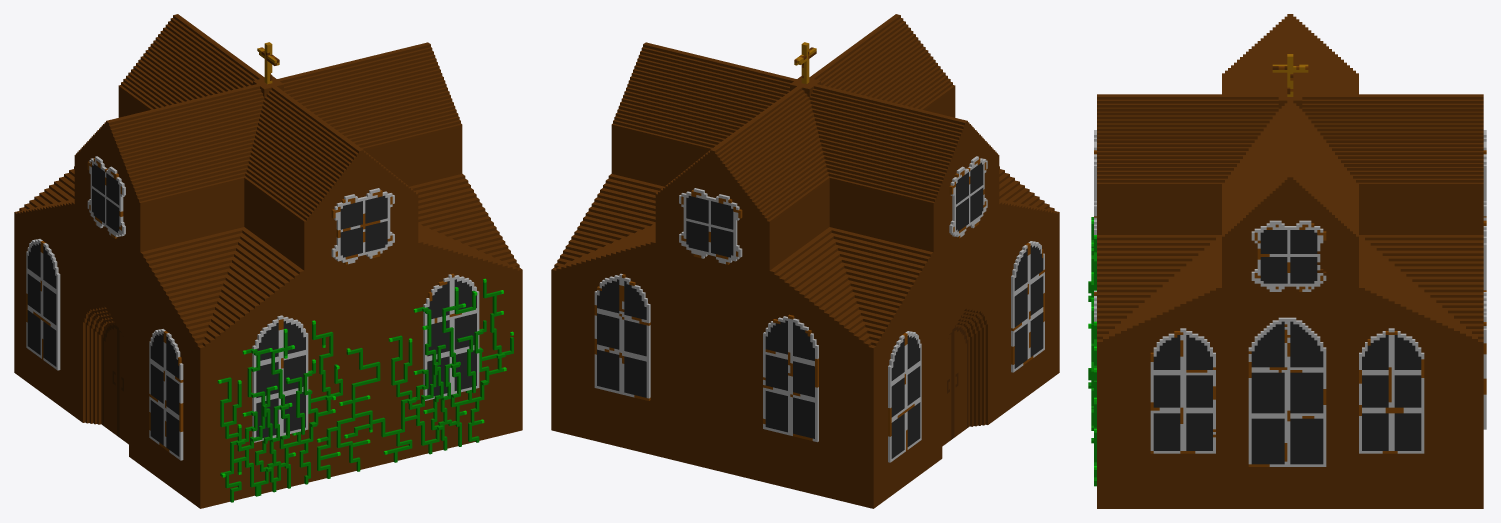
The model's file is church.obj.
The picture shows the model from 3 angles, left to right: view 1: azimuth 30°, elevation 25°; view 2: azimuth 150°, elevation 25°; view 3: azimuth 270°, elevation 25°; orthographic projection. The views are drawn at different scales.
Bounding box in the file's own units: 13.2 × 13.8 × 13.4.
1 material, 1 textured.
